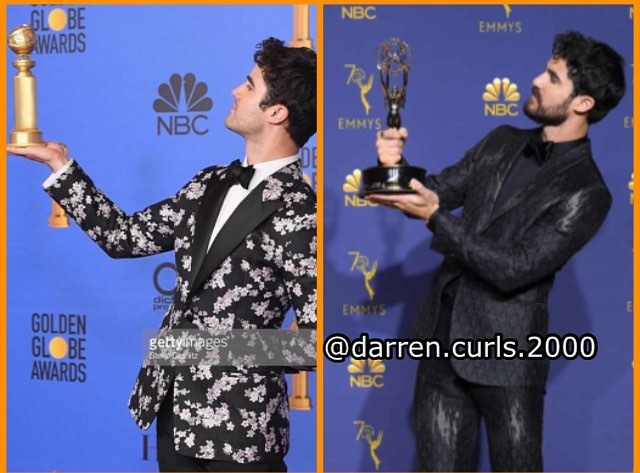hand: (375, 131, 404, 159)
